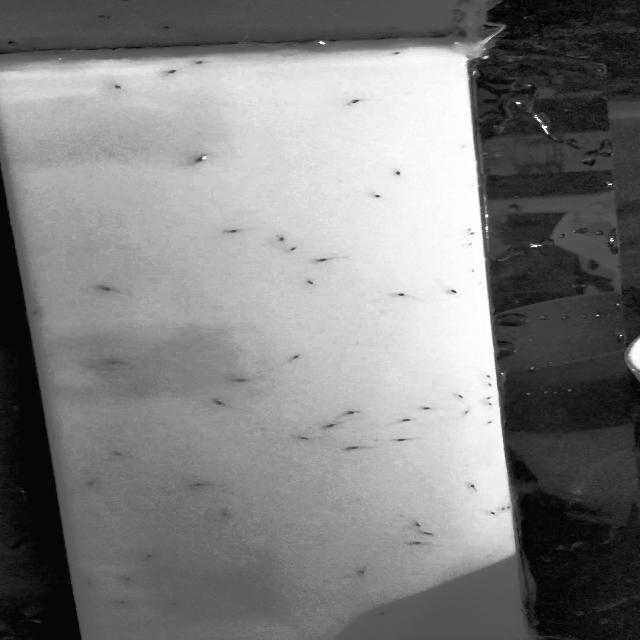shrimp: (186, 148, 215, 168), (212, 508, 240, 522), (99, 354, 125, 369), (299, 274, 322, 290), (76, 575, 102, 589), (80, 476, 104, 491), (106, 76, 128, 92), (161, 598, 188, 611), (280, 351, 309, 363), (313, 420, 342, 432), (89, 282, 115, 295), (222, 224, 246, 238), (206, 396, 230, 410), (185, 478, 210, 491), (344, 443, 373, 454), (386, 47, 406, 62), (184, 55, 211, 66), (230, 376, 259, 386), (160, 64, 178, 80), (364, 189, 388, 201), (406, 534, 424, 550), (443, 286, 465, 299), (313, 254, 336, 266), (124, 576, 147, 588), (387, 167, 409, 179), (391, 417, 417, 427), (273, 232, 291, 246), (416, 402, 434, 416), (391, 287, 411, 299), (390, 435, 414, 445), (352, 566, 369, 580), (294, 433, 320, 442), (346, 95, 366, 106), (112, 596, 134, 606), (418, 527, 436, 539), (345, 409, 366, 419), (482, 506, 498, 519), (138, 553, 160, 562), (27, 306, 43, 318), (284, 244, 303, 254), (497, 502, 512, 514), (482, 417, 498, 428), (410, 517, 424, 529), (452, 391, 468, 401), (461, 407, 475, 418), (113, 449, 128, 459), (482, 400, 498, 409), (468, 481, 480, 492), (480, 382, 498, 389), (481, 394, 497, 401), (480, 372, 492, 381), (128, 580, 134, 582), (129, 584, 134, 585)
